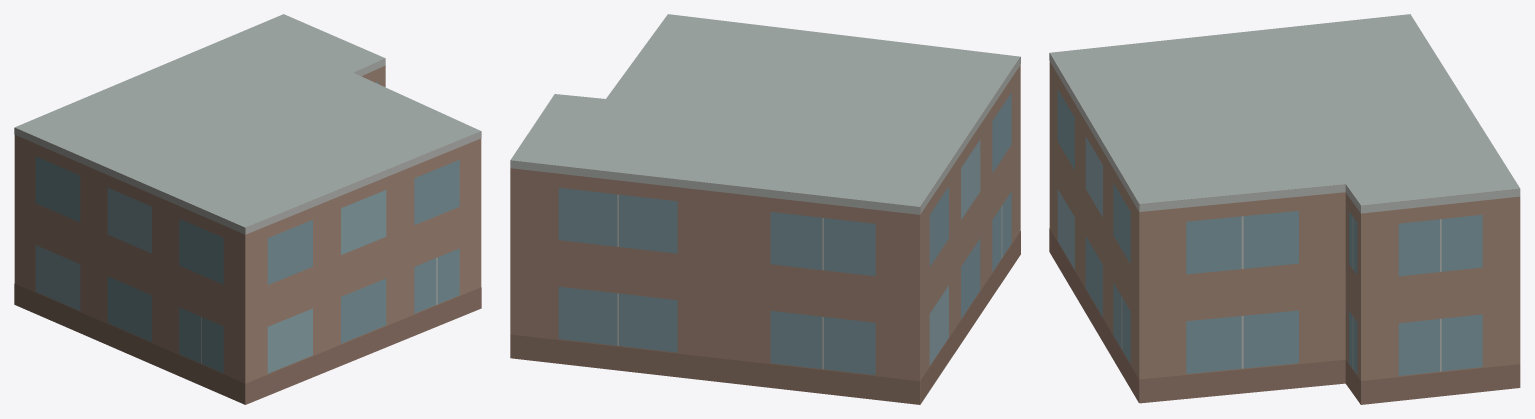
The model's file is survey-upis-32572813.glb.
The picture shows the model from 3 angles, left to right: view 1: azimuth 30°, elevation 25°; view 2: azimuth 150°, elevation 25°; view 3: azimuth 270°, elevation 25°; orthographic projection. The views are drawn at different scales.
Parts seen in each view (by area): view 1: survey-upis-32572813.tmp; view 2: survey-upis-32572813.tmp; view 3: survey-upis-32572813.tmp.
Part boxes in pixels (x1,y1,x2,y2): survey-upis-32572813.tmp: (14, 14, 481, 404); survey-upis-32572813.tmp: (510, 14, 1020, 404); survey-upis-32572813.tmp: (1049, 14, 1520, 404).
Size of the model in its own units: 12.59 by 6.1 by 13.07.
